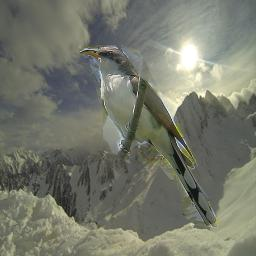Cuckoo: (79, 45, 218, 228)
